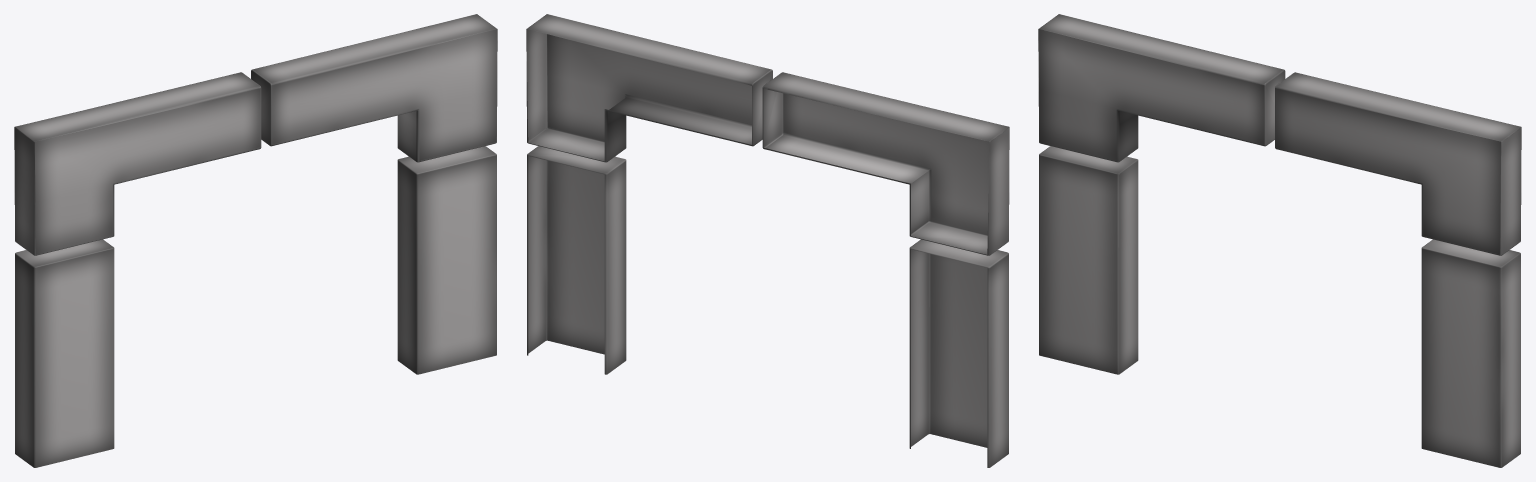
File: DoorFrameLight01_1.FBX
3 renders of one model, left to right at view 1: azimuth 30°, elevation 25°; view 2: azimuth 150°, elevation 25°; view 3: azimuth 330°, elevation 25°, orthographic.
Visible parts, largest first — view 1: Doorway01; view 2: Doorway01; view 3: Doorway01.
Boxes of the visible parts, left/top/right/bottom form: Doorway01: left=14, top=14, right=497, bottom=467; Doorway01: left=526, top=14, right=1009, bottom=467; Doorway01: left=1038, top=14, right=1521, bottom=467.
Bounding box in the file's own units: 460 × 310 × 35.
